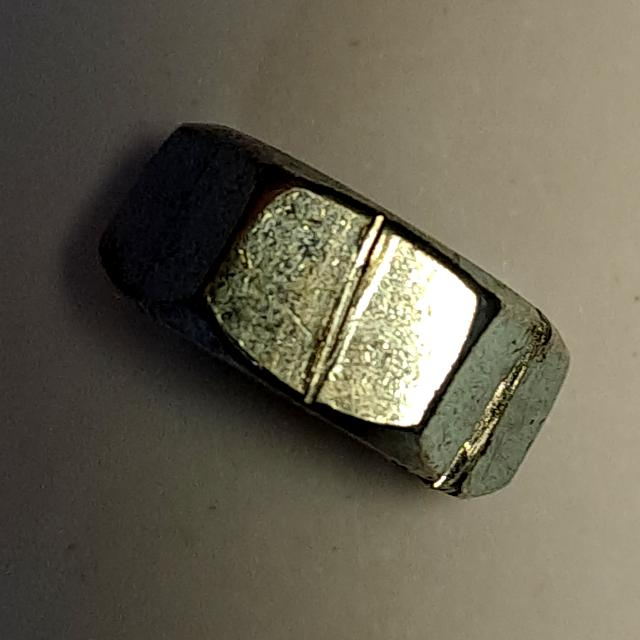Side_Scratches: (83, 109, 584, 514)
